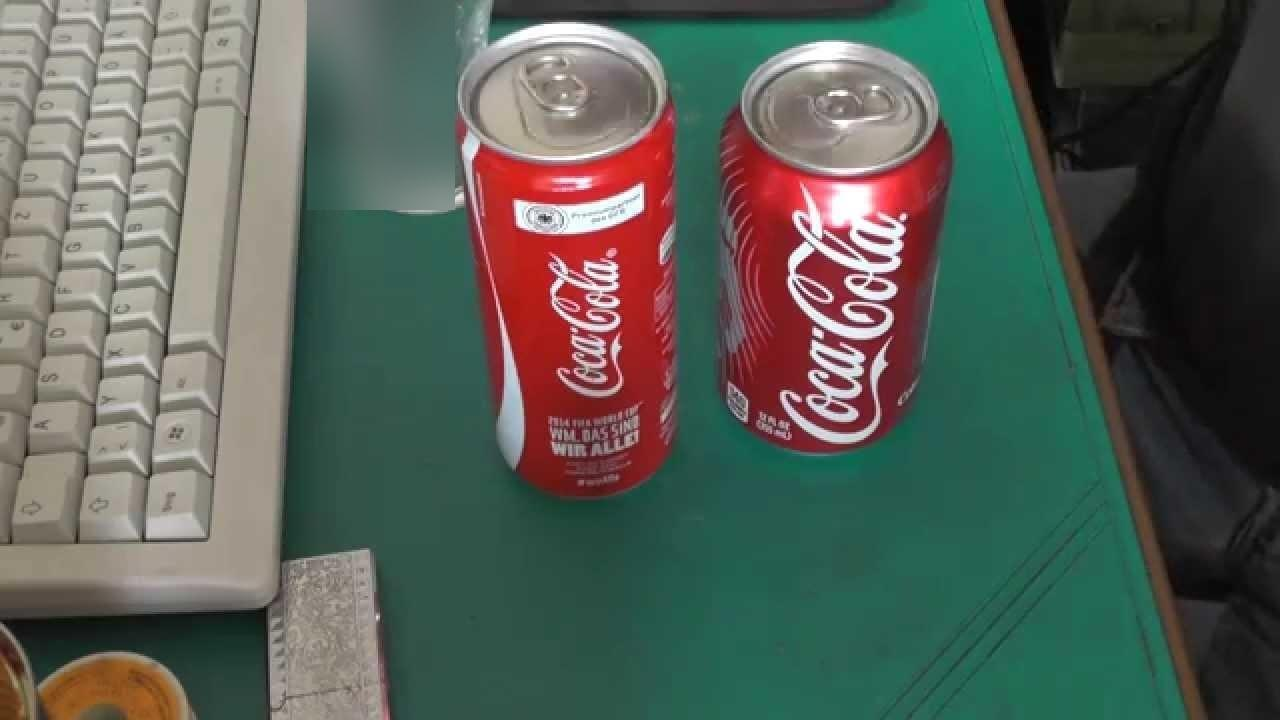tin can: (454, 21, 685, 502), (713, 40, 957, 454)
